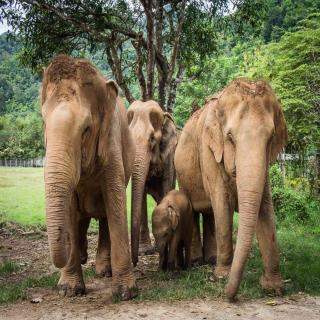Elephant: (173, 76, 296, 304), (37, 50, 141, 305), (123, 92, 185, 266), (149, 187, 198, 276)
